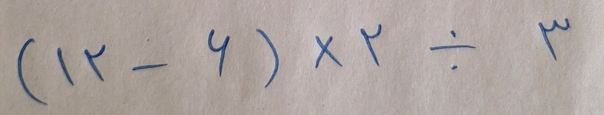character: (15, 35, 51, 108), (425, 27, 480, 70), (251, 24, 281, 93), (536, 15, 575, 64), (205, 26, 233, 81), (310, 31, 346, 73), (357, 20, 385, 72), (53, 44, 79, 91), (82, 43, 110, 85), (129, 56, 172, 77)
